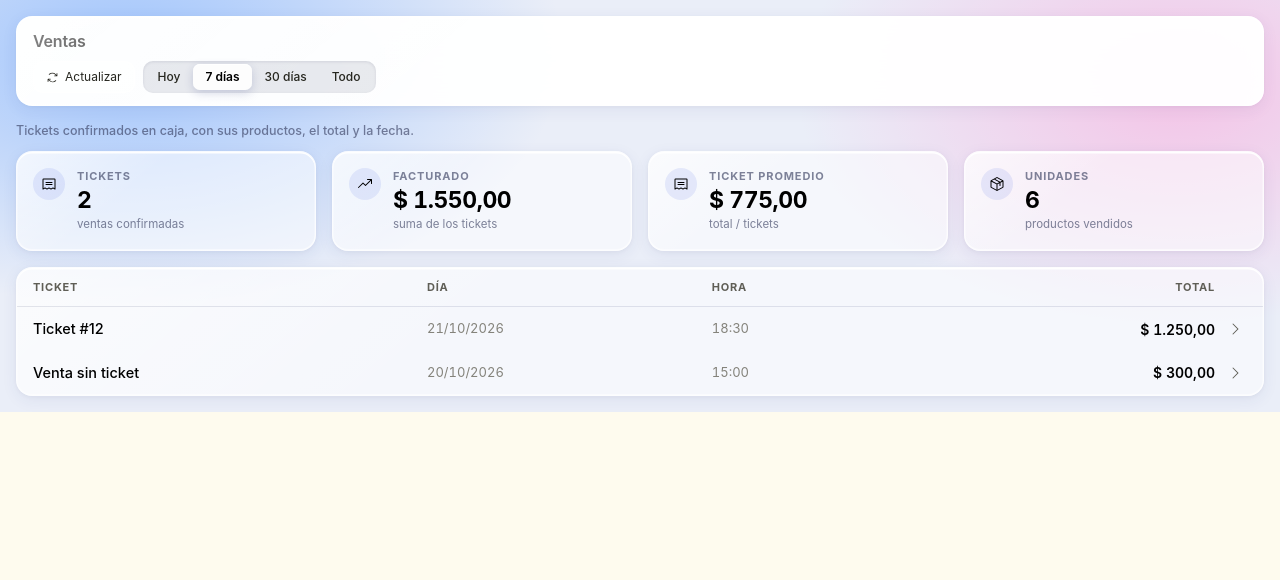
Test: ventas › al hacer clic en un ticket se despliegan sus productos y otro clic los oculta
The width and height of the screenshot is (1280, 580).
Click the text "Ticket #12".
click(68, 329)  # box [33,320,104,337]
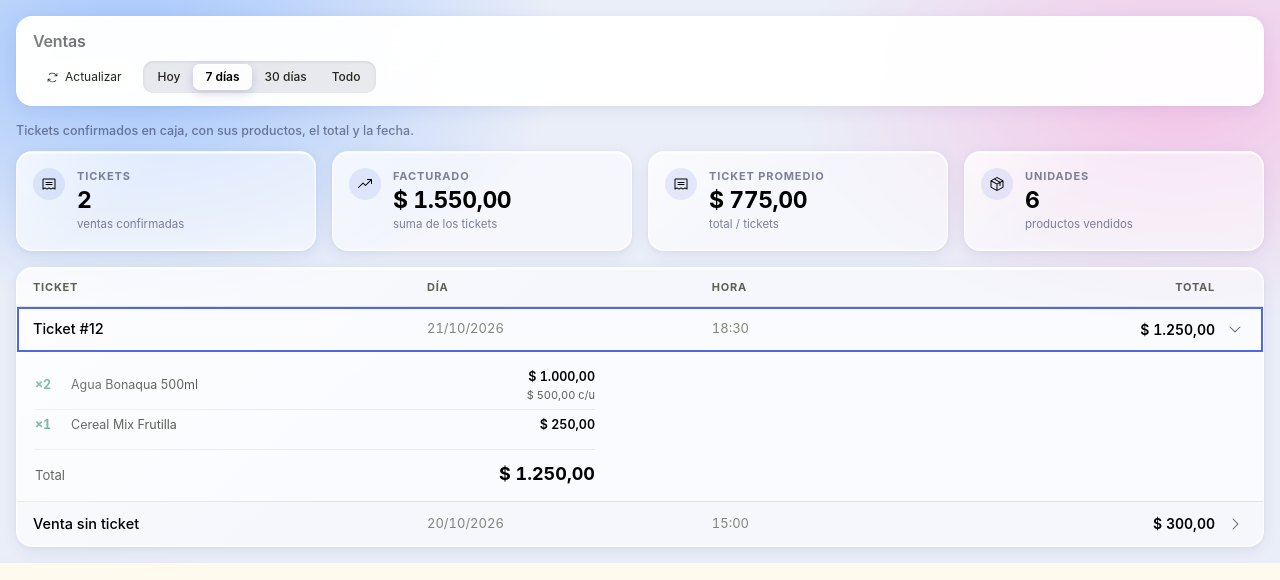
expect the button "Ticket #12 21/10/2026 18:30 $ 1.250,00" is expanded: met, box [17,307,1263,352]
expect the text "Agua Bonaqua 500ml" is shown: met, box [71,377,198,392]
expect the text "×2" is shown: met, box [35,377,51,392]
Click the text "Ticket #12".
click(68, 329)  # box [33,320,104,337]
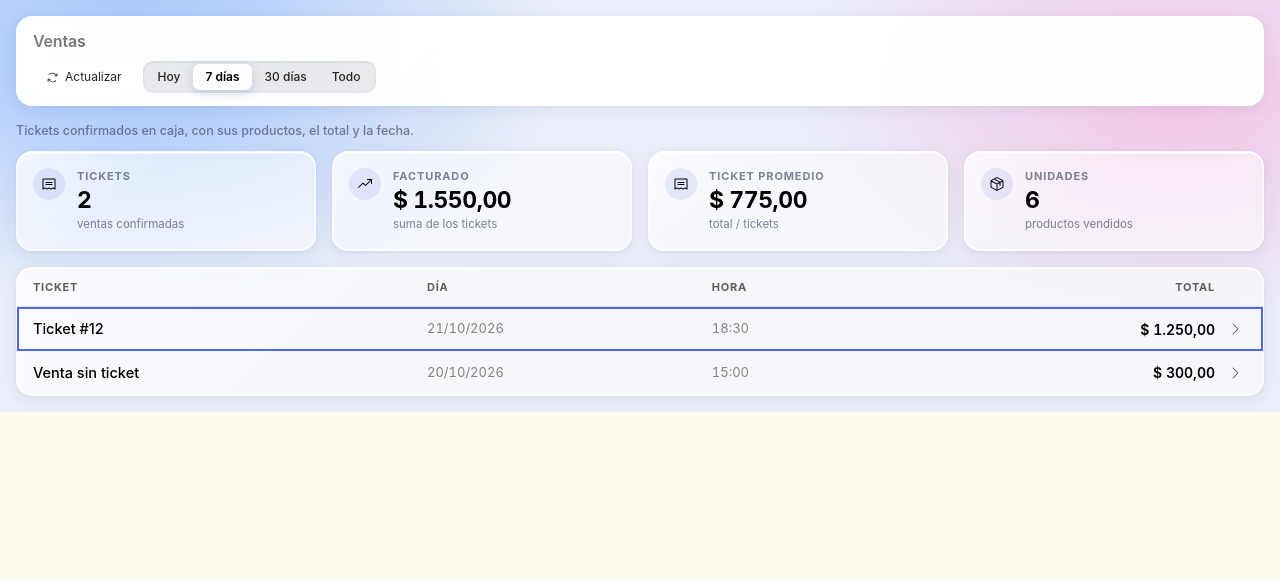
expect the text "Agua Bonaqua 500ml" is gone: met
